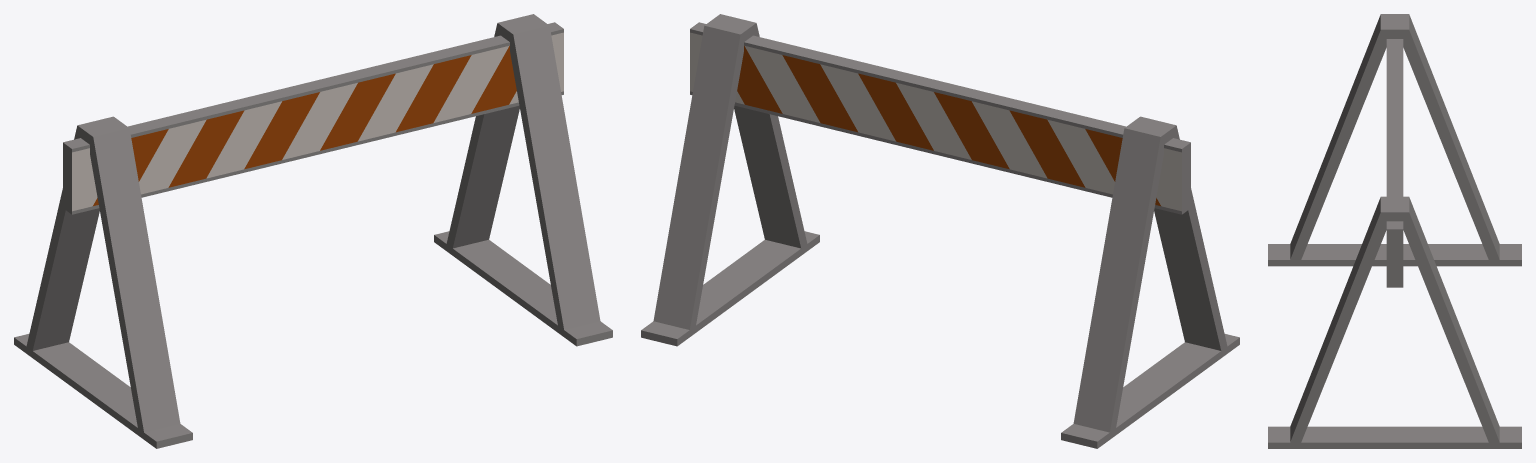
Rendered from prop_traffic_barrier.glb.
The picture shows the model from 3 angles, left to right: view 1: azimuth 30°, elevation 25°; view 2: azimuth 150°, elevation 25°; view 3: azimuth 270°, elevation 25°; orthographic projection. The views are drawn at different scales.
Visible parts, largest first — view 1: TrafficBarrier_2; view 2: TrafficBarrier_2; view 3: TrafficBarrier_2.
Part boxes in pixels (bbox=[...]): TrafficBarrier_2: bbox=[14, 14, 612, 448]; TrafficBarrier_2: bbox=[641, 14, 1239, 448]; TrafficBarrier_2: bbox=[1268, 14, 1521, 448].
Bounding box in the file's own units: 1.56 × 0.8023 × 0.7801.
1 material, 1 textured.
